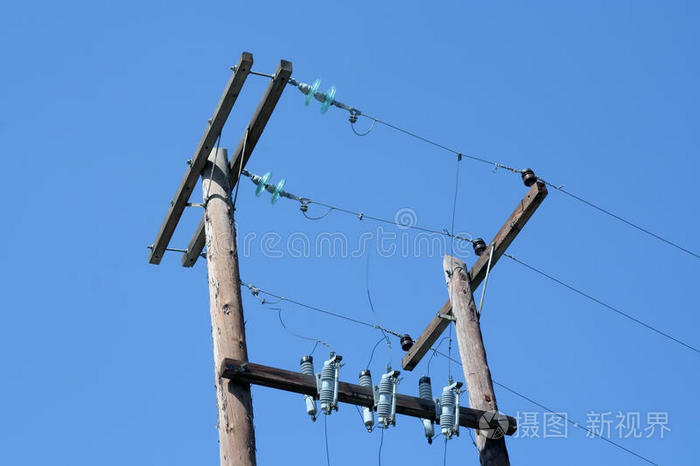insulator: (303, 77, 340, 115), (252, 172, 289, 203)
